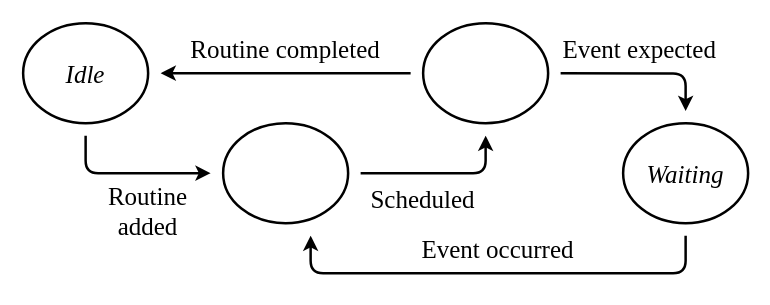
Image size: 770x305. Some labels were removed from this diagram. Here are the shapes that lost their labels. From the top down, the centre of each, then its label:
At [485,72]: "Running".
At [285,172]: "Ready".
